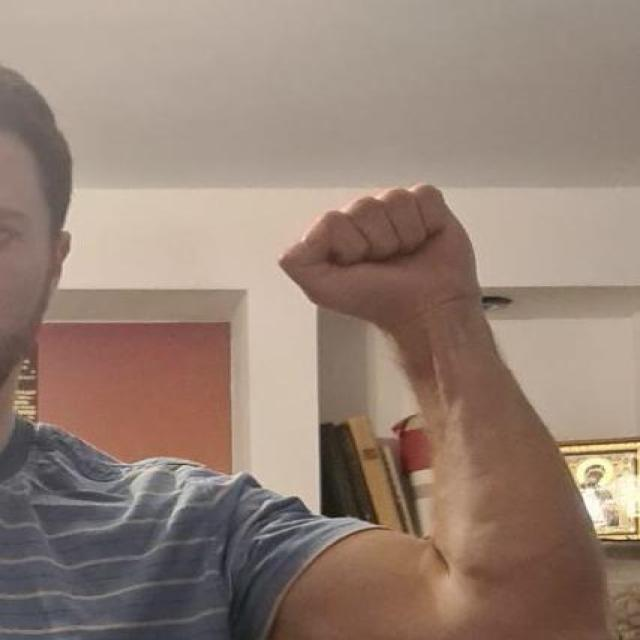hand: (276, 180, 487, 336)
